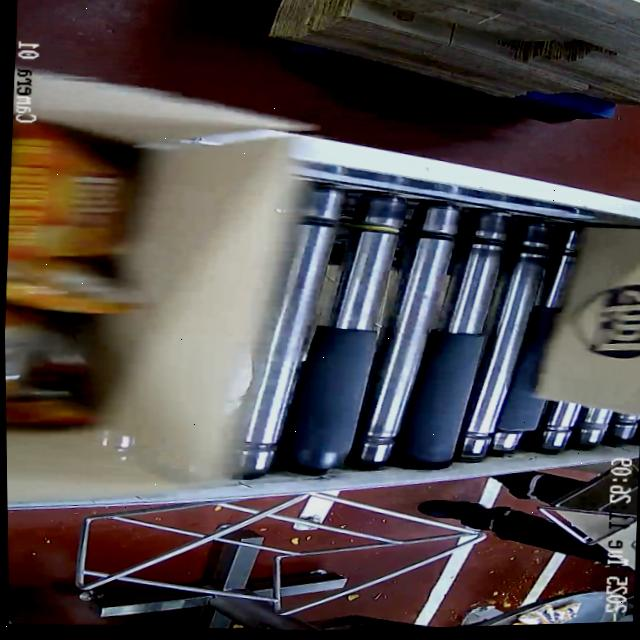FRENCH_CHEESE: (1, 91, 147, 435)
